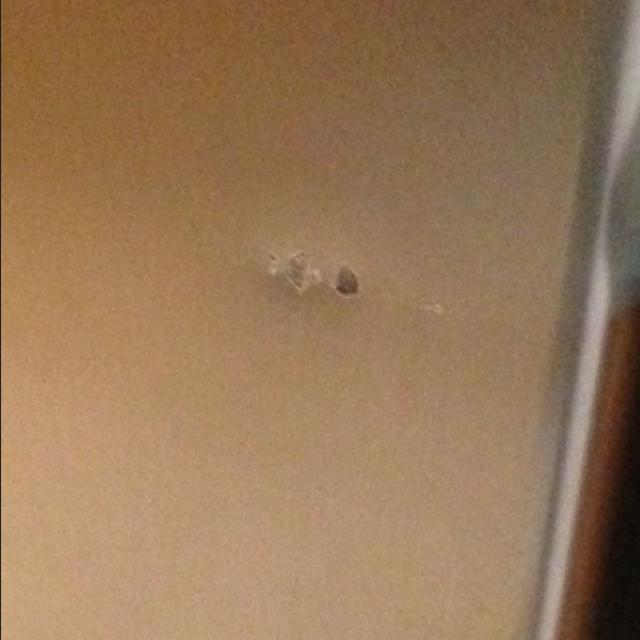dents: (254, 227, 387, 327)
